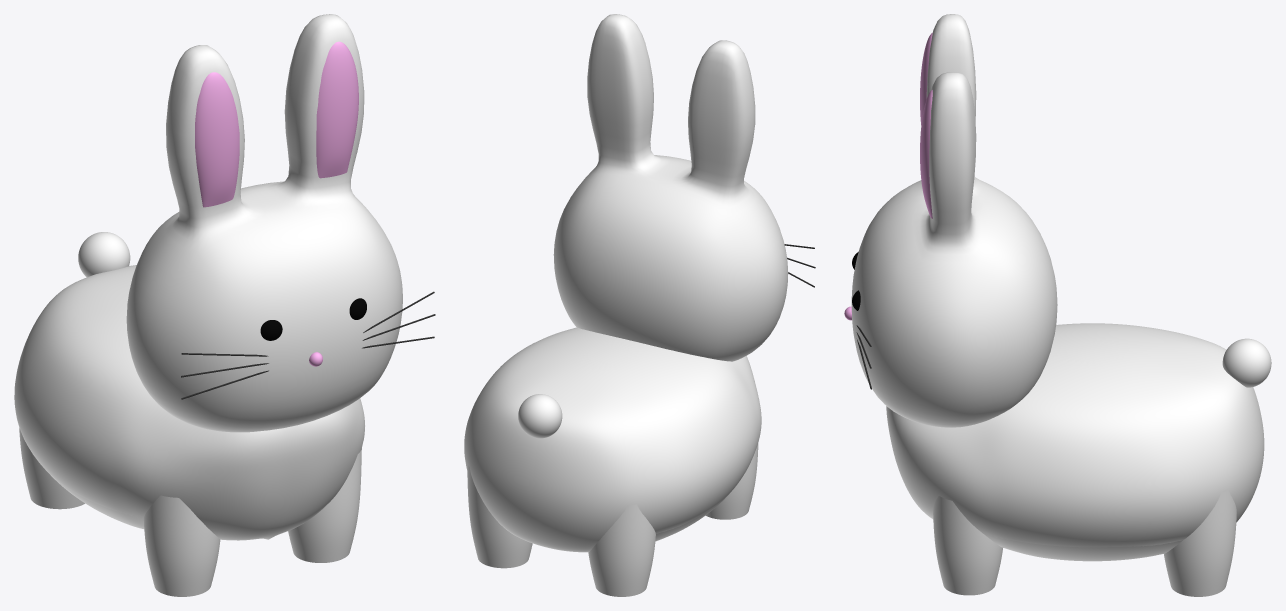
File: rabbit.glb
3 renders of one model, left to right at view 1: azimuth 30°, elevation 25°; view 2: azimuth 150°, elevation 25°; view 3: azimuth 270°, elevation 25°, orthographic. The views are drawn at different scales.
Visible parts, largest first — view 1: 큐브, 구체.005, 구체.007, 구체.002, 구체; view 2: 구체.005, 큐브, 구체.002; view 3: 구체.005, 큐브, 구체.002, 구체.007.
Boxes of the visible parts, x1,y1,x2,y2 form: 큐브: [126, 14, 402, 432]; 구체.005: [14, 265, 364, 596]; 구체.007: [195, 41, 358, 207]; 구체.002: [78, 232, 130, 277]; 구체: [260, 298, 366, 340]; 구체.005: [464, 327, 761, 596]; 큐브: [553, 14, 788, 361]; 구체.002: [518, 394, 562, 438]; 구체.005: [886, 323, 1264, 596]; 큐브: [851, 14, 1057, 427]; 구체.002: [1222, 338, 1271, 387]; 구체.007: [920, 33, 932, 218].
Size of the model in its own units: 1.57 by 2.88 by 2.19.
